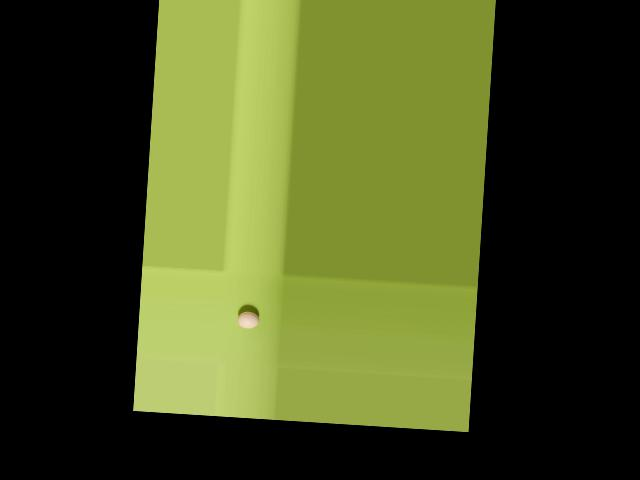egg: (237, 310, 260, 328)
